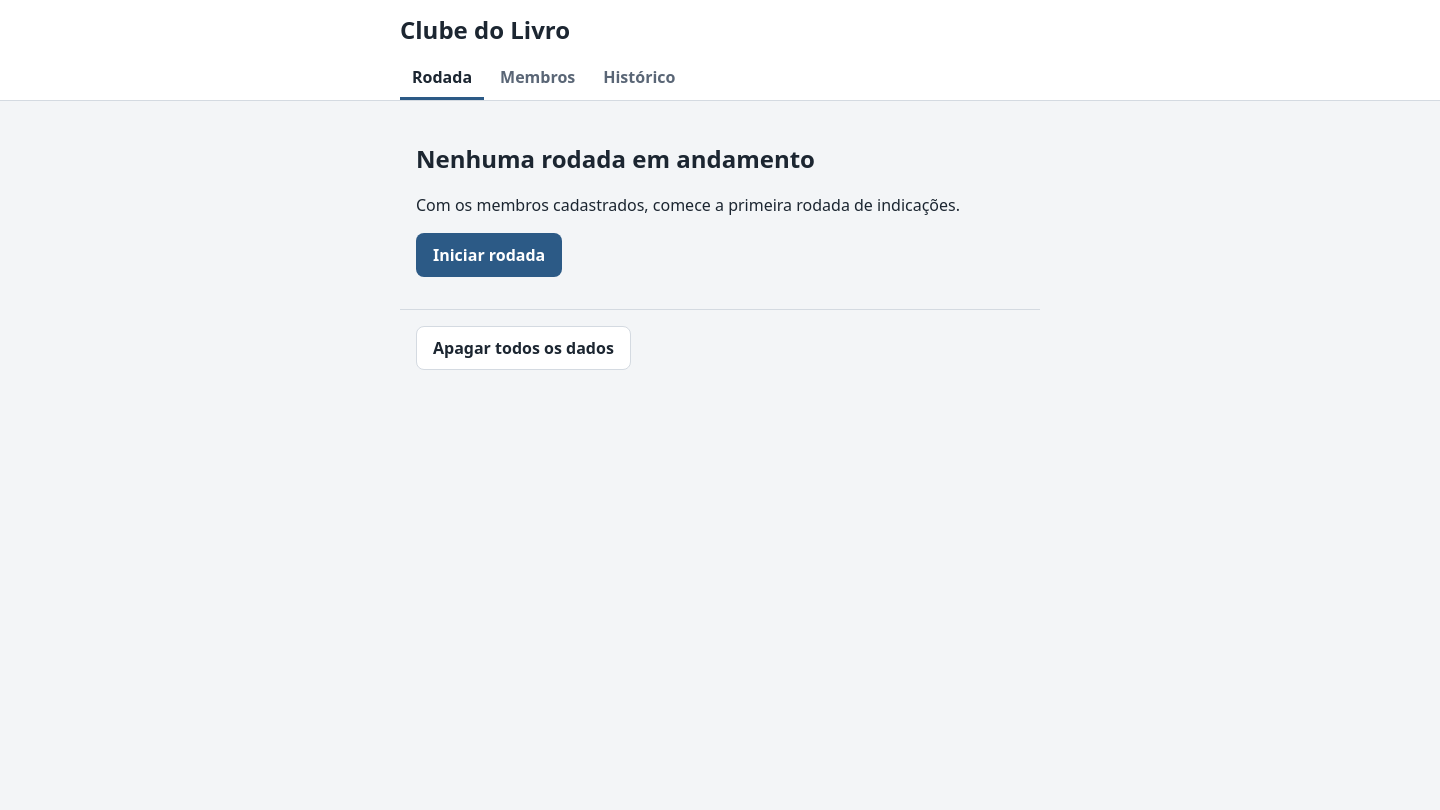
Scenario: R14: cancelar preserva os dados e confirmar remove todo o clube
Click the button "Apagar todos os dados". click: (523, 348)
box: [416,326,631,370]
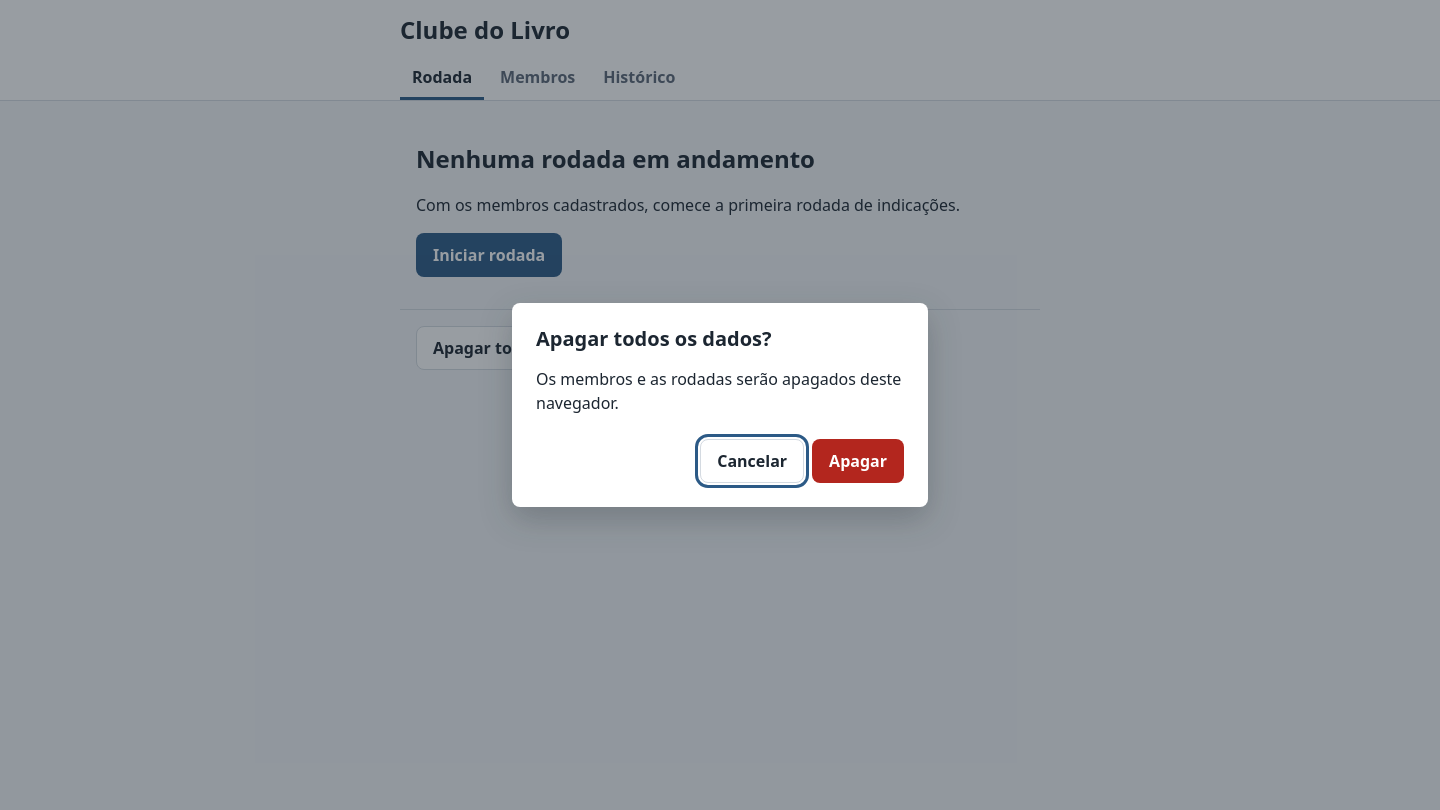
Click the button "Cancelar". click: (752, 461)
box: [700,439,804,483]
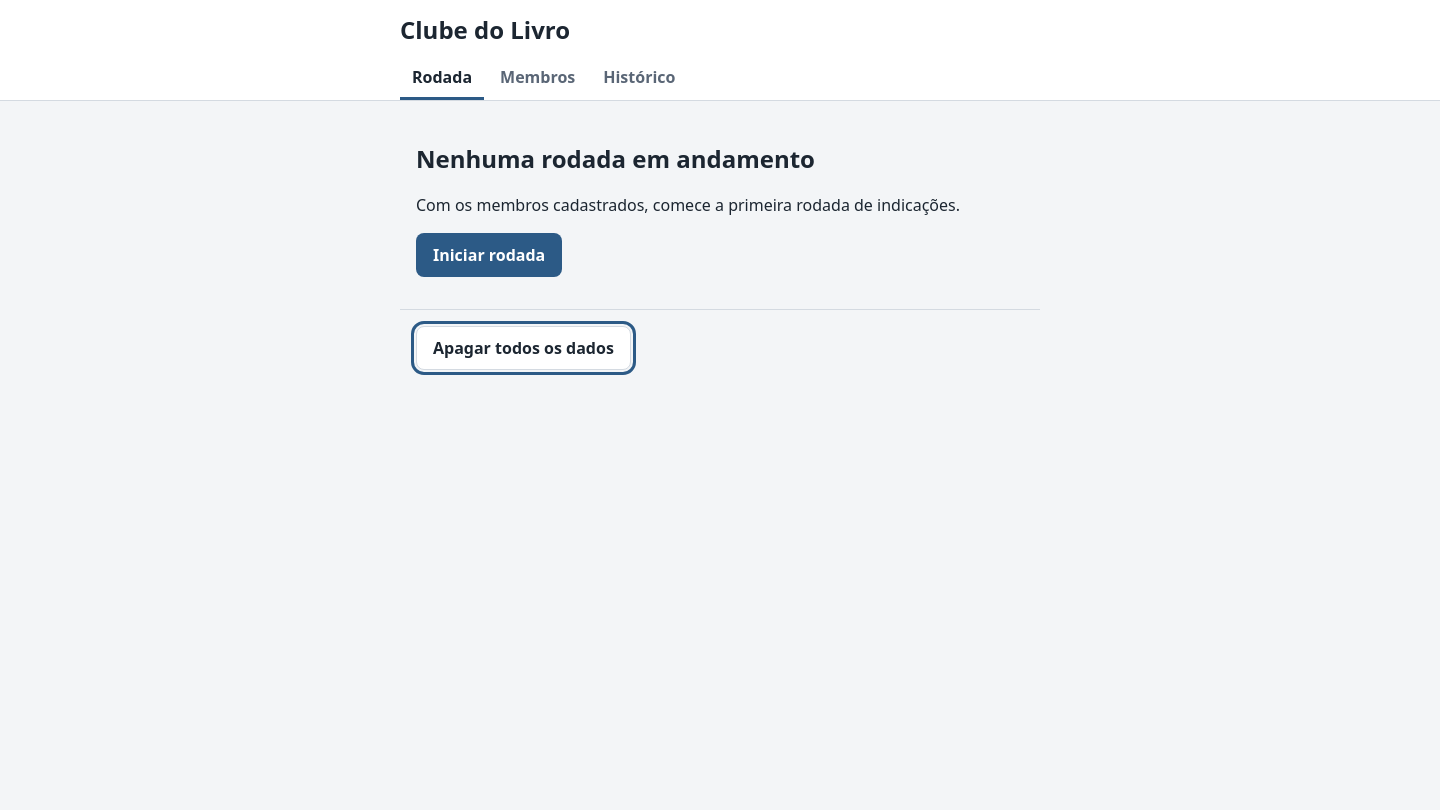
Result: the dialog is gone
Click the button "Apagar todos os dados". click: (523, 348)
box: [416,326,631,370]
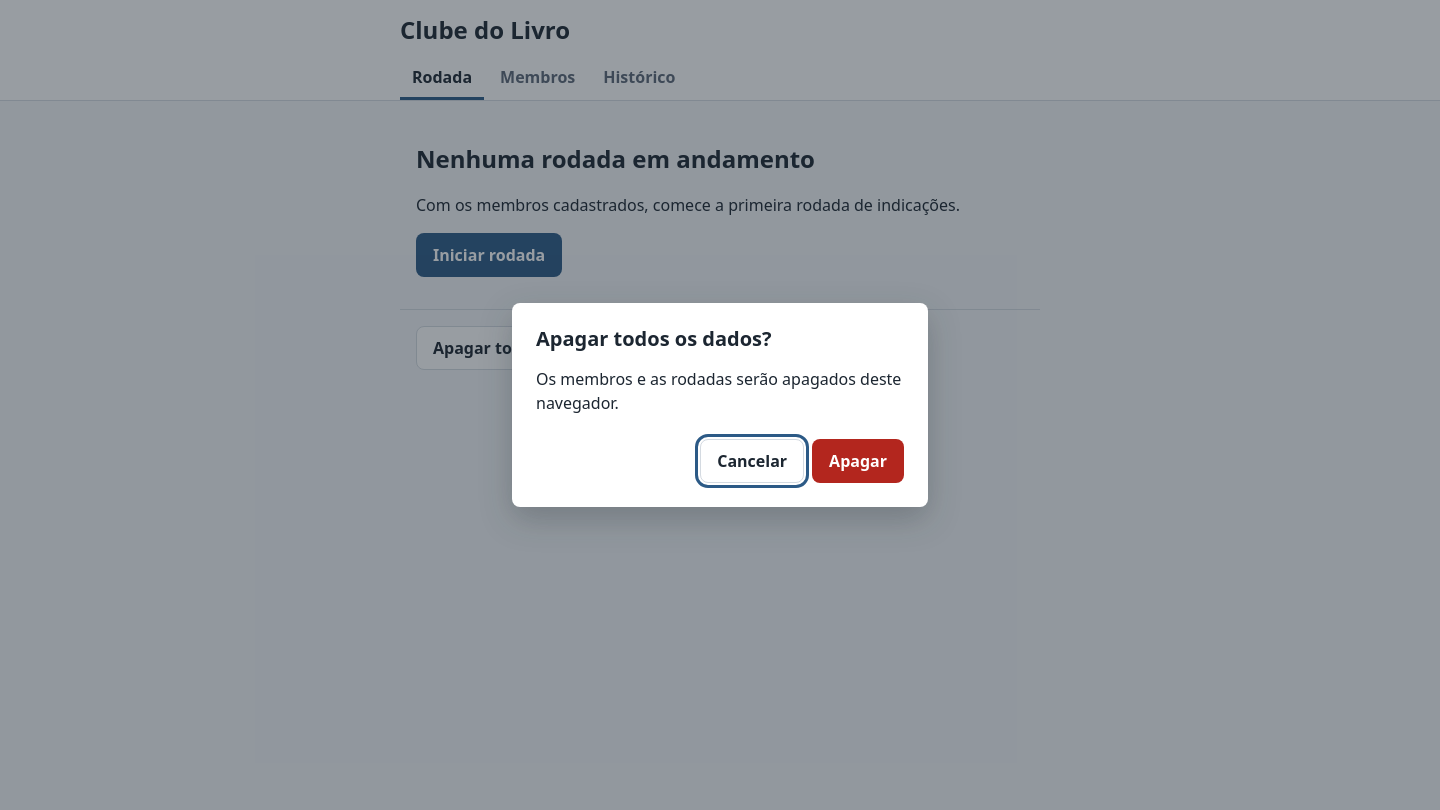
Click the button "Apagar". click: (858, 461)
box: [812,439,904,483]
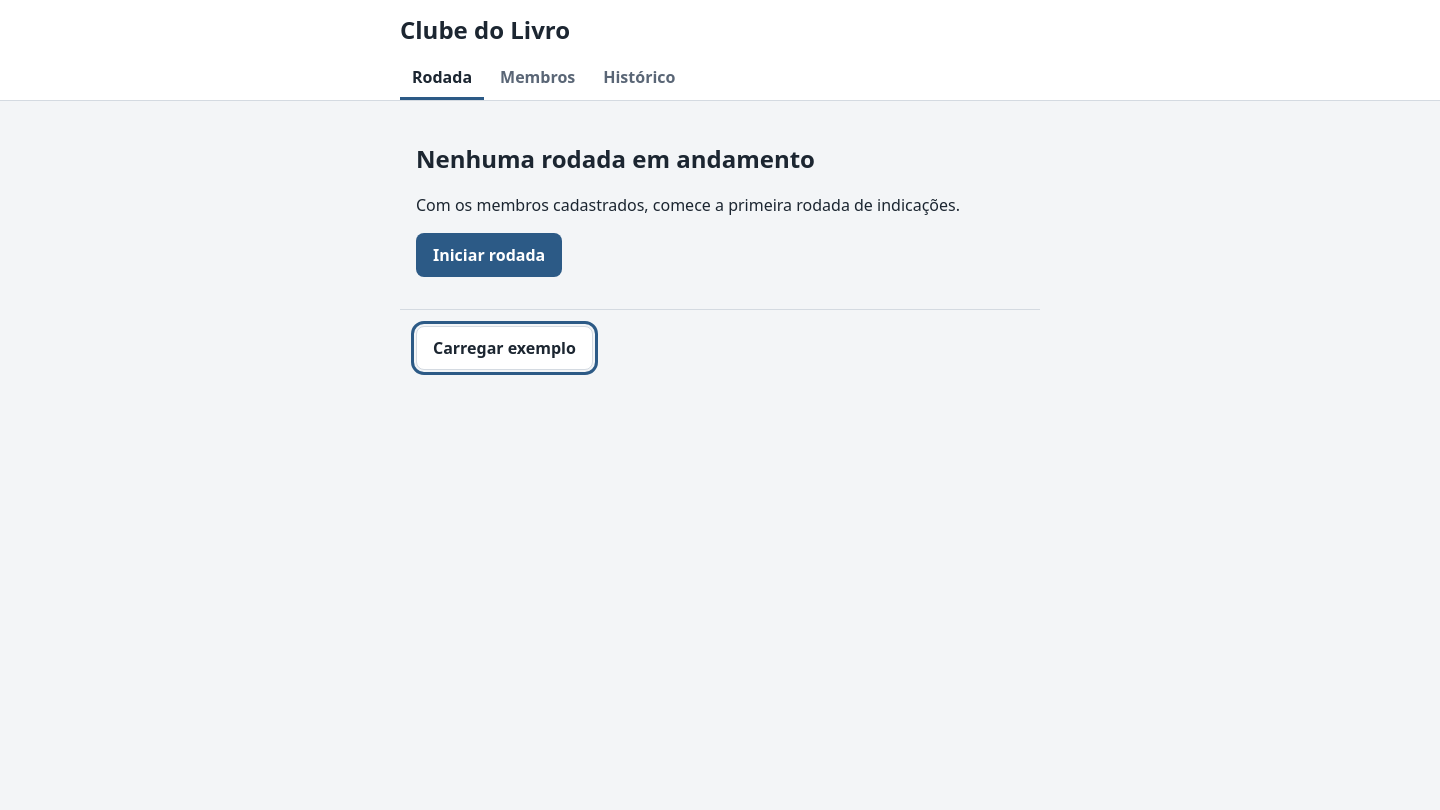
Result: the button "Carregar exemplo" is shown at [416,326,593,370]
